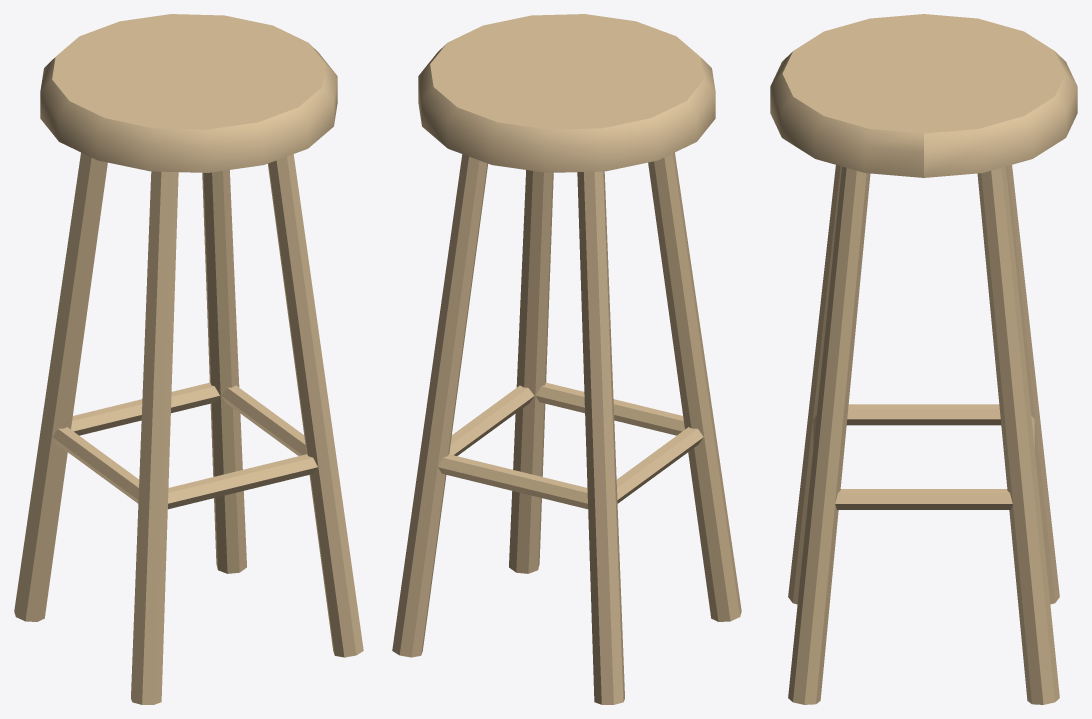
Rendered from indoor-market-hall-and-traders-stall-stool-3c24a76c.glb.
The picture shows the model from 3 angles, left to right: view 1: azimuth 30°, elevation 25°; view 2: azimuth 150°, elevation 25°; view 3: azimuth 270°, elevation 25°; orthographic projection. The views are drawn at different scales.
Visible parts, largest first — view 1: stall-stool; view 2: stall-stool; view 3: stall-stool.
Part boxes in pixels (bbox=[...]): stall-stool: bbox=[14, 14, 363, 704]; stall-stool: bbox=[392, 14, 741, 704]; stall-stool: bbox=[770, 14, 1077, 704].
Bounding box in the file's own units: 0.32 × 0.6622 × 0.32.
